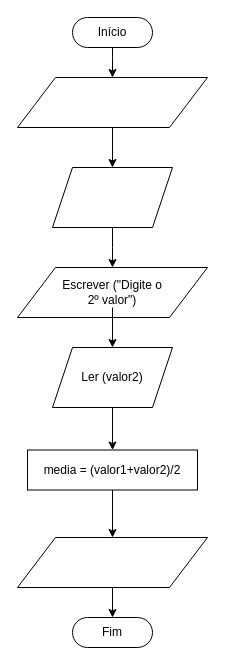
Some shapes in this 225 by 665 pixel diagram are drawn without their labels. The shapes that lost their labels are listed below. From the top down, each one's box as (x1, y1, x2, y2) in pixels, then its label:
(16, 76, 208, 128): Escrever ("Digite o 1º valor")
(52, 166, 172, 228): Ler (valor1)
(16, 536, 208, 588): Escrever ("O valor da média é ",media)
